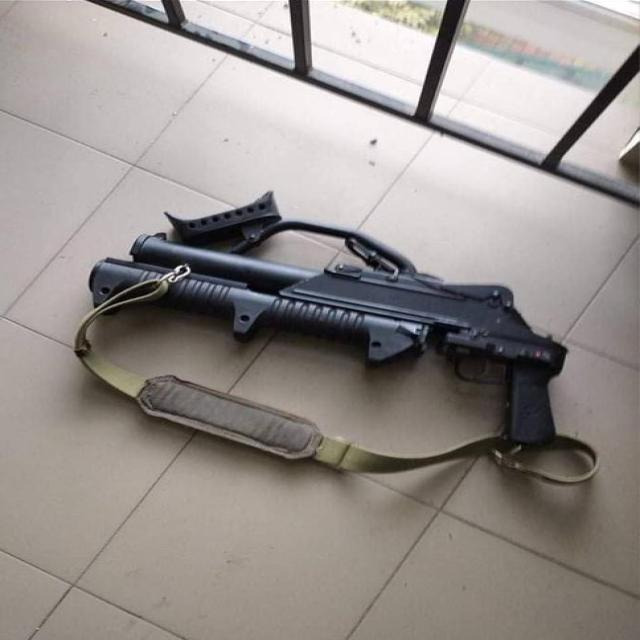Weapon: (90, 220, 563, 444)
